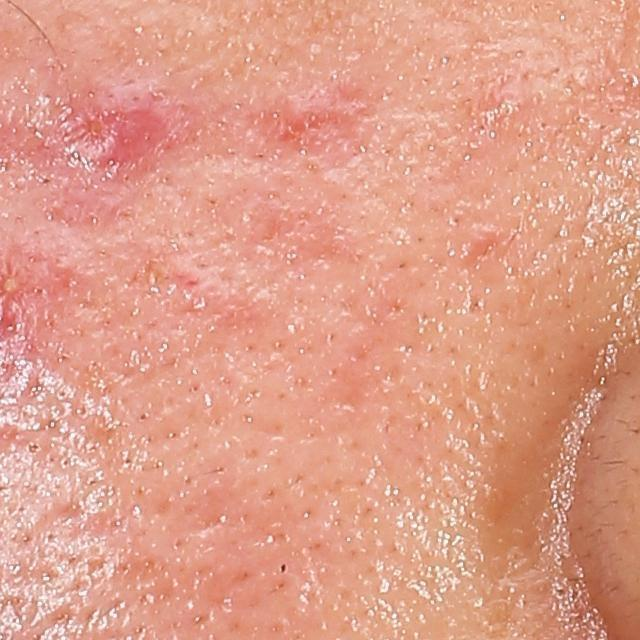papule: (45, 74, 176, 181), (268, 90, 335, 140)
